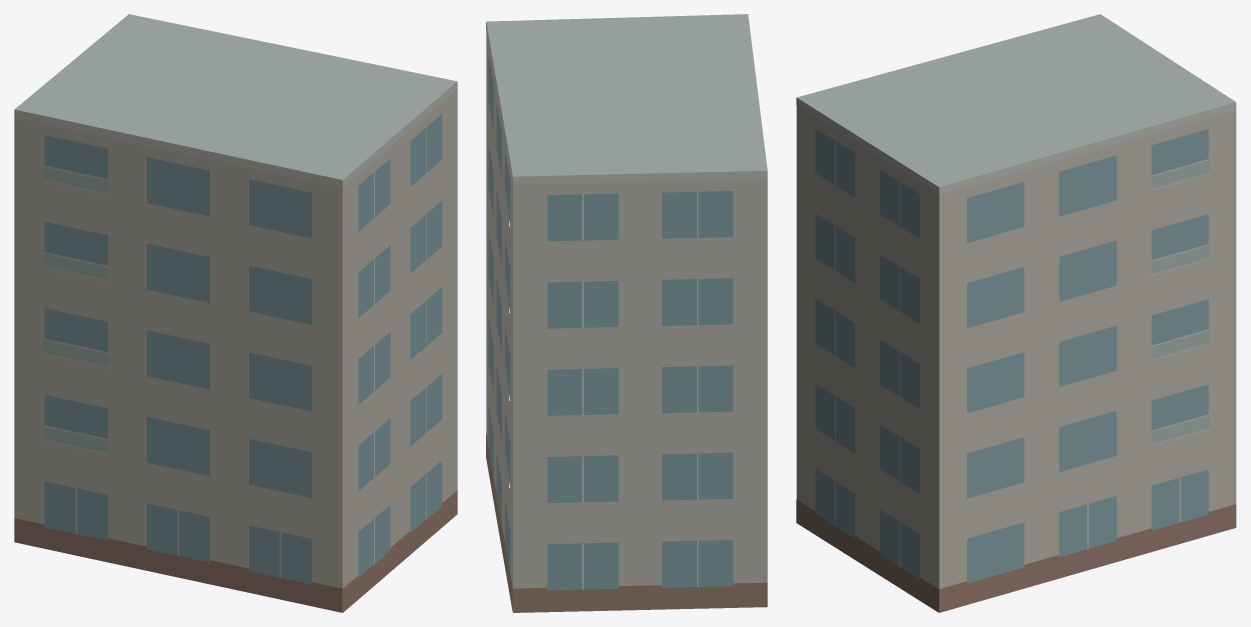
The model's file is survey-upis-32790397.glb.
3 renders of one model, left to right at view 1: azimuth 30°, elevation 25°; view 2: azimuth 150°, elevation 25°; view 3: azimuth 270°, elevation 25°, orthographic. The views are drawn at different scales.
Visible parts, largest first — view 1: survey-upis-32790397.tmp; view 2: survey-upis-32790397.tmp; view 3: survey-upis-32790397.tmp.
Boxes of the visible parts, x1,y1,x2,y2 form: survey-upis-32790397.tmp: (14, 14, 457, 612); survey-upis-32790397.tmp: (486, 14, 767, 612); survey-upis-32790397.tmp: (796, 14, 1236, 612).
Bounding box in the file's own units: 11.71 × 13.4 × 12.56.
